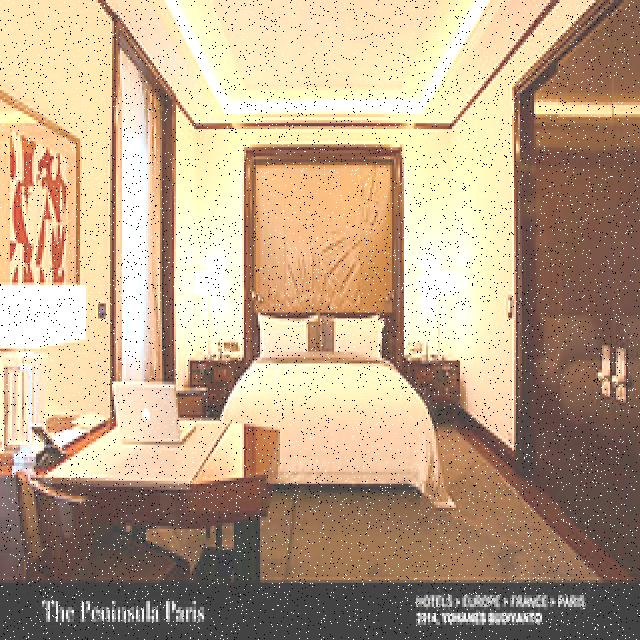bed: (249, 306, 394, 497)
